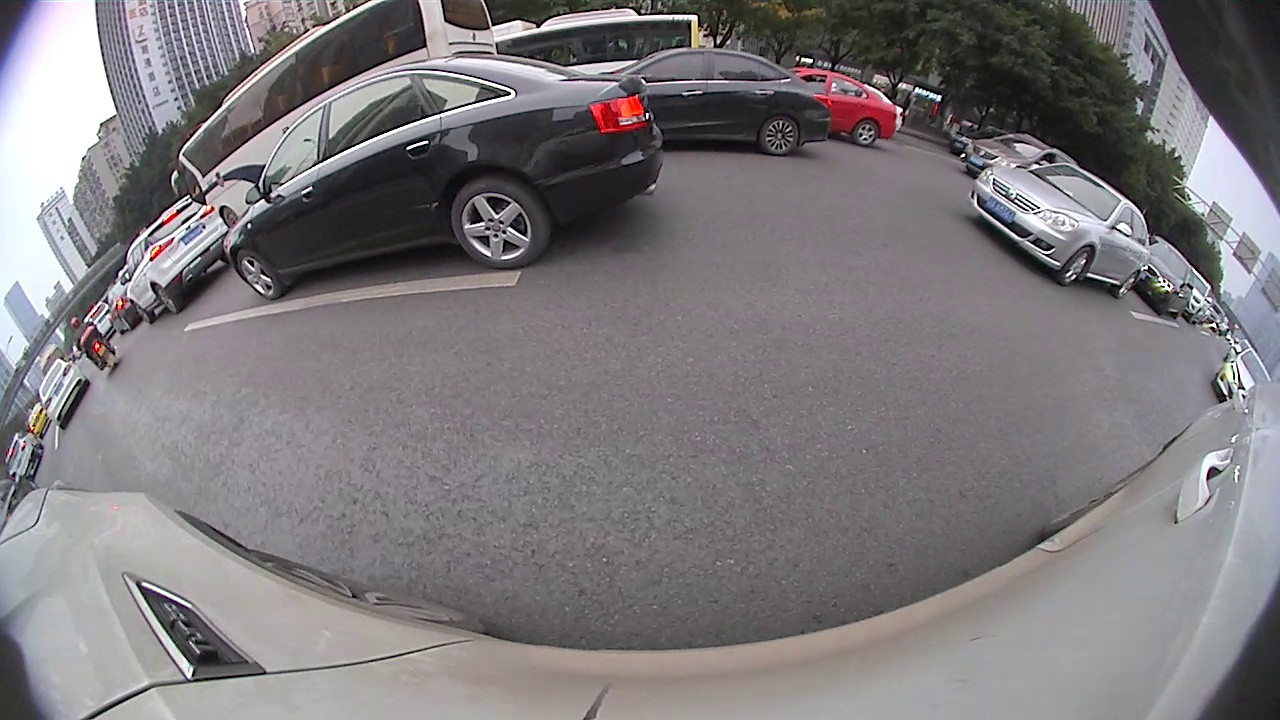bus: (167, 1, 496, 225), (491, 12, 703, 74)
car: (216, 53, 665, 302), (593, 46, 830, 162), (971, 157, 1146, 304), (117, 193, 229, 323), (783, 66, 896, 146), (965, 131, 1082, 179), (1136, 234, 1196, 320), (32, 359, 88, 431), (1215, 341, 1268, 407), (951, 113, 1010, 159), (98, 286, 150, 329), (3, 430, 42, 479)
front: (235, 251, 282, 296), (1060, 249, 1094, 285), (131, 298, 153, 322)
rear: (452, 182, 549, 263), (759, 117, 801, 155), (154, 283, 181, 312), (1112, 273, 1141, 297), (855, 120, 880, 144)
rider: (69, 316, 118, 372)
